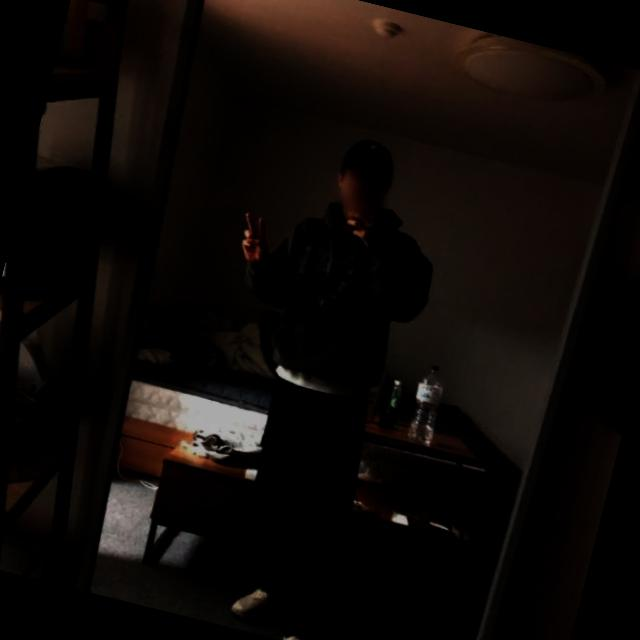denimpants: (222, 371, 394, 640)
hoodies: (224, 175, 445, 395)
